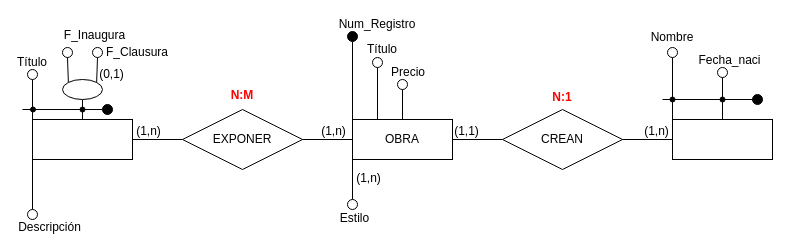
Image size: 790x252. Some labels were removed from this diagram. Here are the shapes that lost their labels. From the top down, the centre of each, then its label:
At (82,139): "EXPOSICIÓN".
At (722,139): "ARTISTA".
